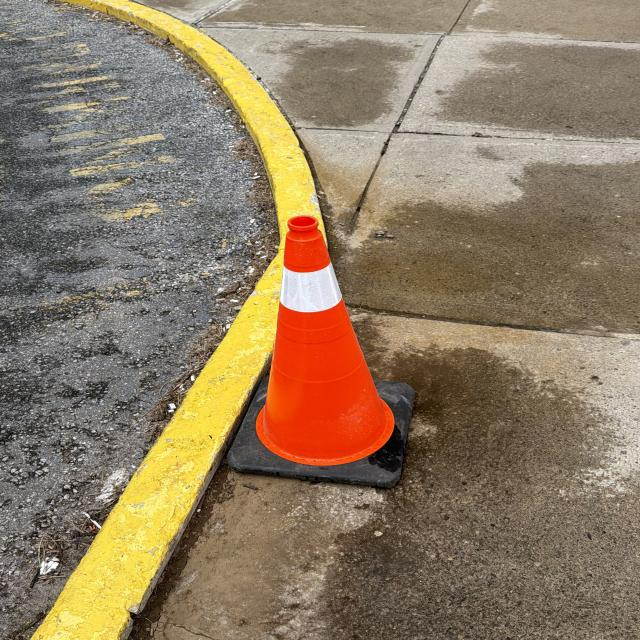Traffic Cone: (221, 216, 416, 485)
